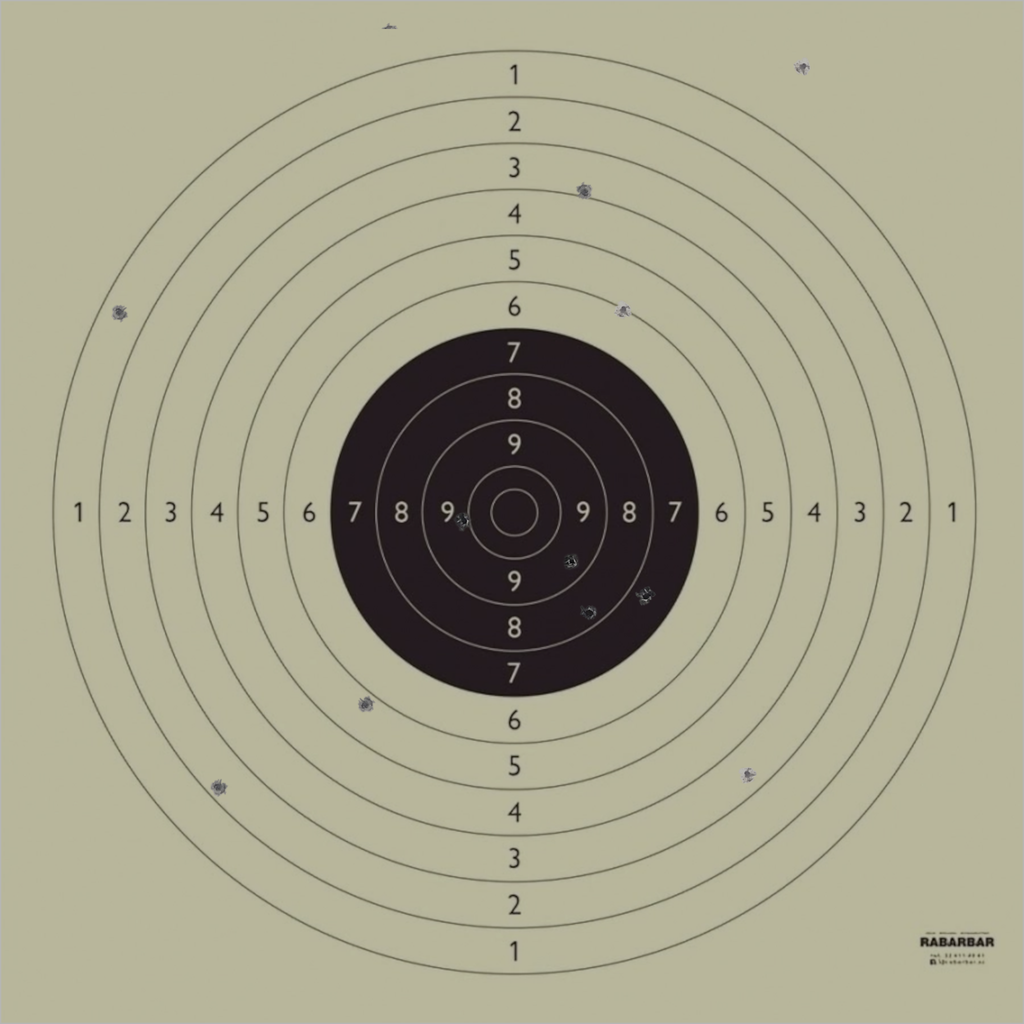0 punktow: (794, 58, 812, 76)
1 punkt: (110, 303, 129, 322)
10 punktow: (455, 512, 473, 530)
2 punkty: (209, 778, 227, 797)
3 punkty: (738, 765, 757, 784)
4 punkty: (575, 183, 594, 201)
5 punktow: (356, 696, 375, 714)
6 punktow: (614, 301, 633, 319)
7 punktow: (637, 587, 656, 605)
8 punktow: (580, 604, 598, 622)
9 punktow: (563, 553, 581, 571)
